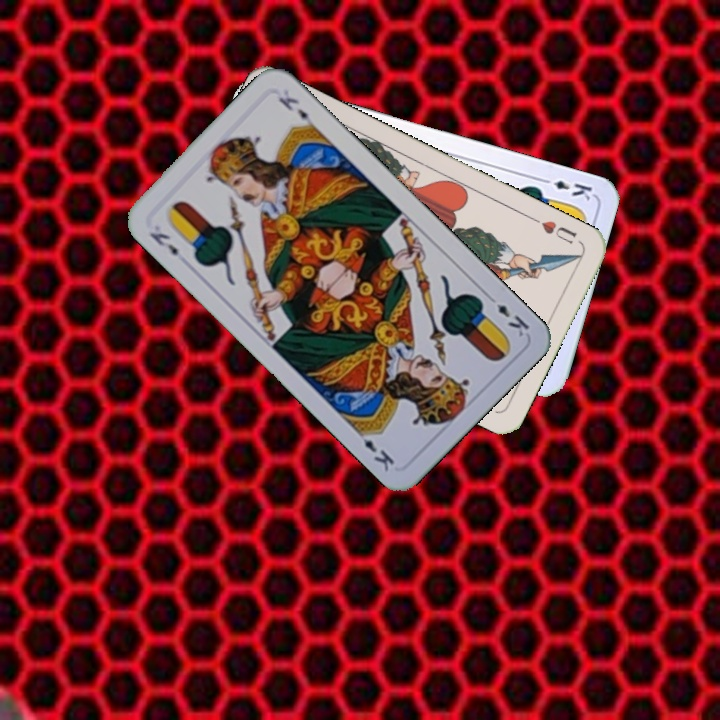EK: (483, 290, 533, 340), (536, 174, 595, 203), (145, 228, 181, 259)
HU: (537, 216, 580, 247)
